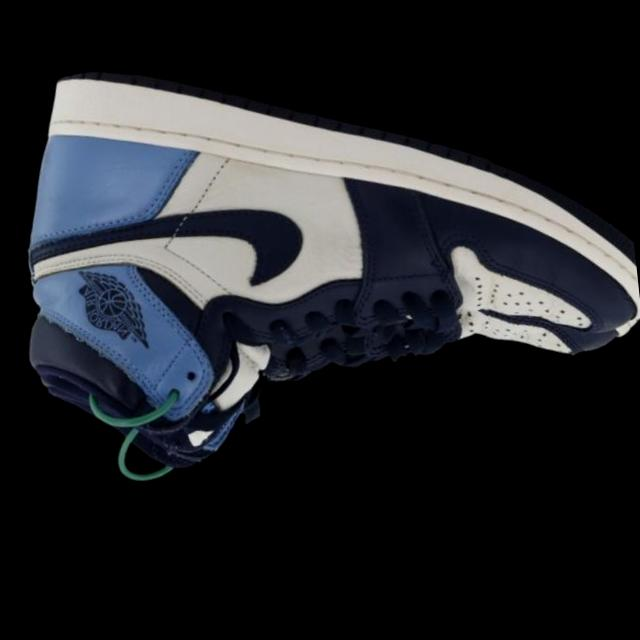nike_original_jordan: (0, 0, 640, 629), (0, 105, 640, 635)
